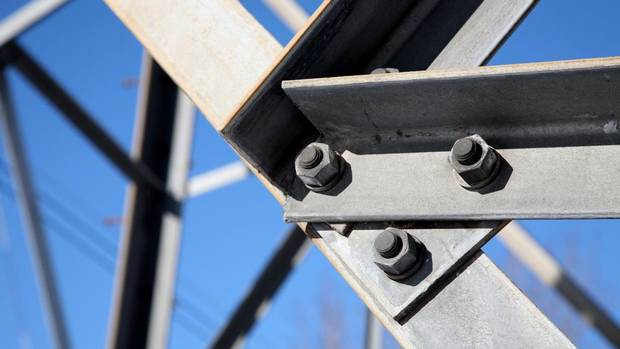bolt_b: (446, 131, 498, 185), (368, 224, 418, 276), (293, 141, 339, 188)
